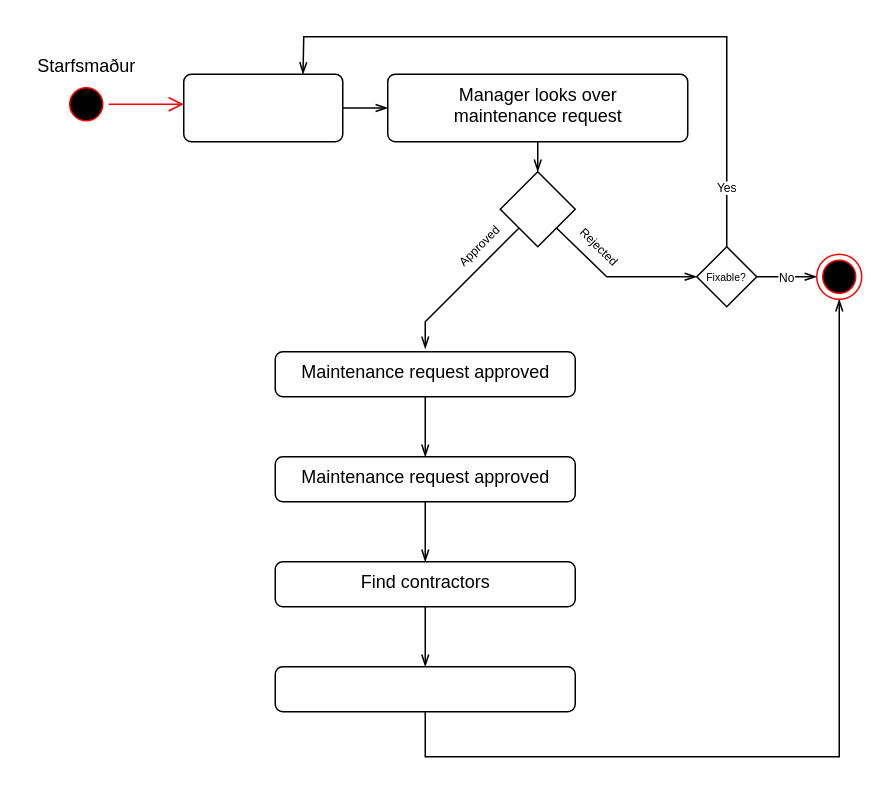
This 888x795 diagram has some shape labels left out. The shapes that lost their labels are listed below. From the top down, each one's centre as x and y in pixels, then its label:
At point 262,107: "Maintenance request created".
At point 424,688: "Start project".
